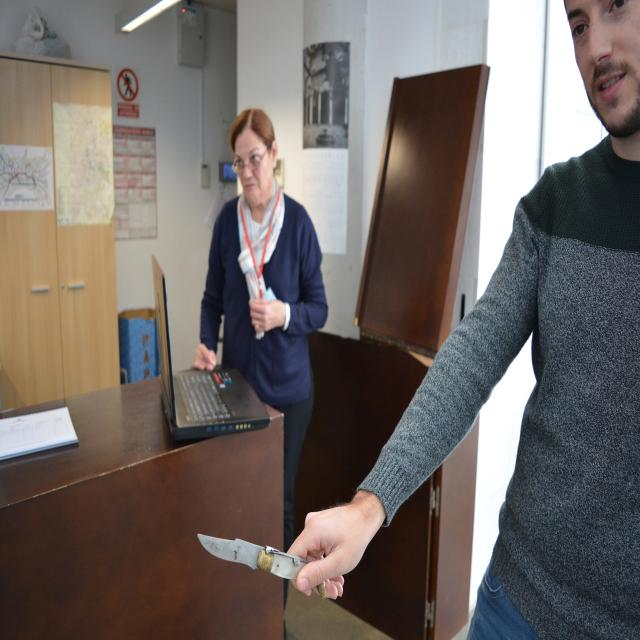knife: (197, 528, 331, 602)
